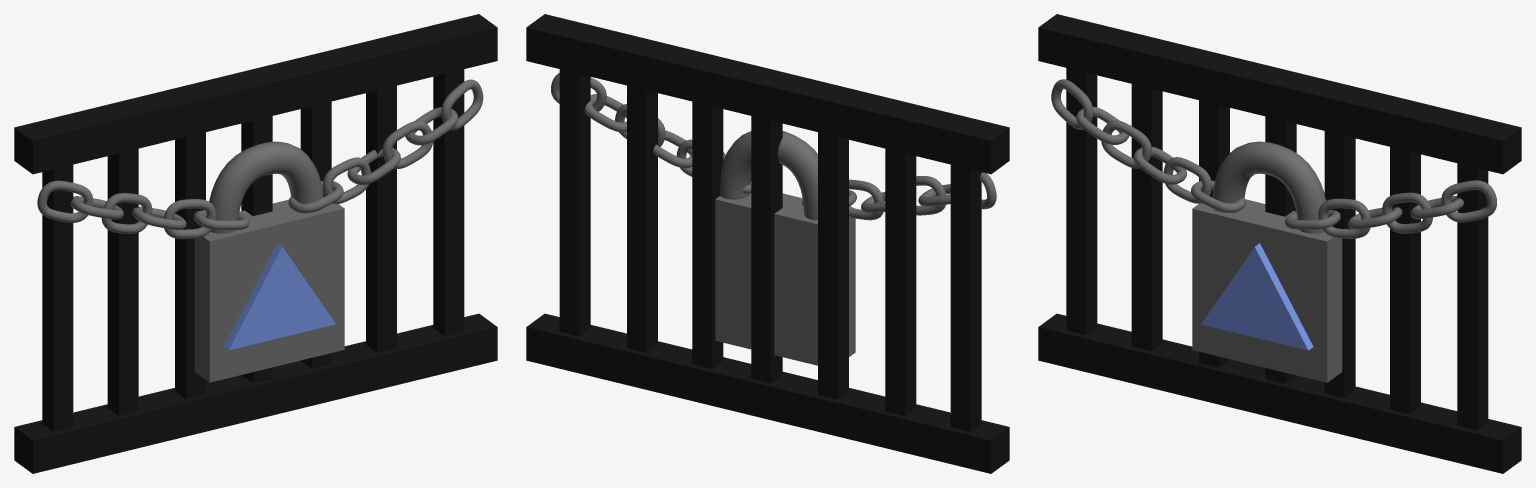
The model's file is NewCage_Triangle_C.fbx.
The picture shows the model from 3 angles, left to right: view 1: azimuth 30°, elevation 25°; view 2: azimuth 150°, elevation 25°; view 3: azimuth 330°, elevation 25°; orthographic projection.
Parts seen in each view (by area): view 1: Cube.007, Cube.008, Cube.009, Cylinder.002, Cube.004, Cube.005, Cube.003, Cube.002, Cube.010, Cube.006, Cylinder, Cube.001 (+1 smaller); view 2: Cube.007, Cube.008, Cube.009, Cube.005, Cube.004, Cube.003, Cube.006, Cube.002, Cube.001, Cube, Cylinder.002, Cylinder; view 3: Cube.007, Cube.008, Cube.009, Cylinder.002, Cube.003, Cube.005, Cube.004, Cube.002, Cube.010, Cube.001, Cylinder, Cube.006 (+1 smaller).
Boxes of the visible parts, x1=… form: Cube.007: x1=14, y1=14, x2=497, y2=174; Cube.008: x1=14, y1=313, x2=497, y2=473; Cube.009: x1=194, y1=199, x2=344, y2=382; Cylinder.002: x1=37, y1=79, x2=483, y2=239; Cube.004: x1=42, y1=164, x2=73, y2=431; Cube.005: x1=107, y1=148, x2=138, y2=415; Cube.003: x1=433, y1=69, x2=464, y2=336; Cube.002: x1=366, y1=85, x2=396, y2=352; Cube.010: x1=223, y1=243, x2=335, y2=350; Cube.006: x1=175, y1=132, x2=205, y2=399; Cylinder: x1=209, y1=141, x2=323, y2=233; Cube.001: x1=300, y1=101, x2=331, y2=368; Cube.007: x1=526, y1=14, x2=1009, y2=174; Cube.008: x1=526, y1=313, x2=1009, y2=473; Cube.009: x1=715, y1=193, x2=855, y2=365; Cube.005: x1=885, y1=148, x2=916, y2=415; Cube.004: x1=950, y1=164, x2=981, y2=431; Cube.003: x1=559, y1=69, x2=590, y2=336; Cube.006: x1=818, y1=132, x2=848, y2=399; Cube.002: x1=627, y1=85, x2=657, y2=352; Cube.001: x1=692, y1=101, x2=723, y2=368; Cube: x1=751, y1=116, x2=782, y2=383; Cylinder.002: x1=551, y1=73, x2=996, y2=220; Cylinder: x1=720, y1=131, x2=817, y2=220; Cube.007: x1=1038, y1=14, x2=1521, y2=174; Cube.008: x1=1038, y1=313, x2=1521, y2=473; Cube.009: x1=1192, y1=199, x2=1342, y2=382; Cylinder.002: x1=1051, y1=79, x2=1496, y2=238; Cube.003: x1=1457, y1=163, x2=1488, y2=430; Cube.005: x1=1131, y1=84, x2=1162, y2=350; Cube.004: x1=1066, y1=68, x2=1097, y2=334; Cube.002: x1=1390, y1=147, x2=1420, y2=413; Cube.010: x1=1201, y1=243, x2=1313, y2=350; Cube.001: x1=1324, y1=131, x2=1355, y2=397; Cylinder: x1=1212, y1=141, x2=1326, y2=233; Cube.006: x1=1199, y1=100, x2=1229, y2=367.
Bounding box in the file's own units: 865 × 592 × 113.
